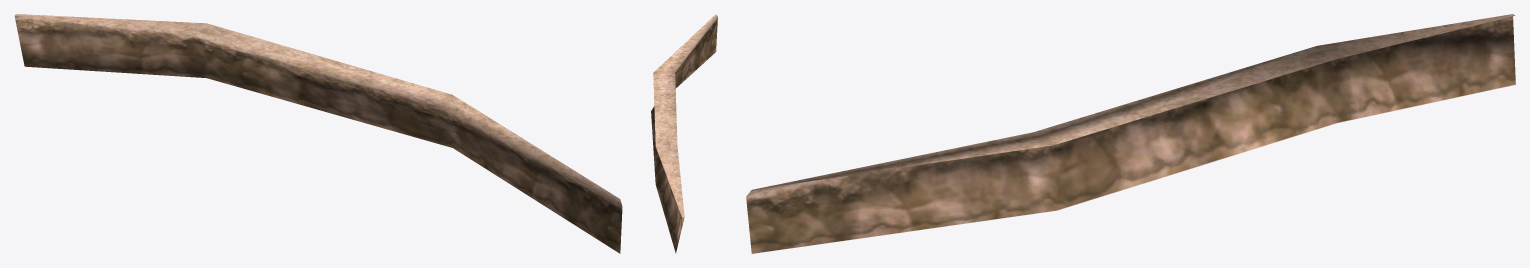
File: EKH_GROTTO_PS_GR_LINE41.fbx
The picture shows the model from 3 angles, left to right: view 1: azimuth 30°, elevation 25°; view 2: azimuth 150°, elevation 25°; view 3: azimuth 270°, elevation 25°; orthographic projection. The views are drawn at different scales.
Parts seen in each view (by area): view 1: EKH_GROTTO_PS_GR_LINE41; view 2: EKH_GROTTO_PS_GR_LINE41; view 3: EKH_GROTTO_PS_GR_LINE41.
Part boxes in pixels (x1,y1,x2,y2): EKH_GROTTO_PS_GR_LINE41: (14, 14, 622, 253); EKH_GROTTO_PS_GR_LINE41: (651, 14, 717, 253); EKH_GROTTO_PS_GR_LINE41: (746, 14, 1515, 253).
Bounding box in the file's own units: 19238 × 5727 × 39160.
Materials: 1 (1 with a texture image).
